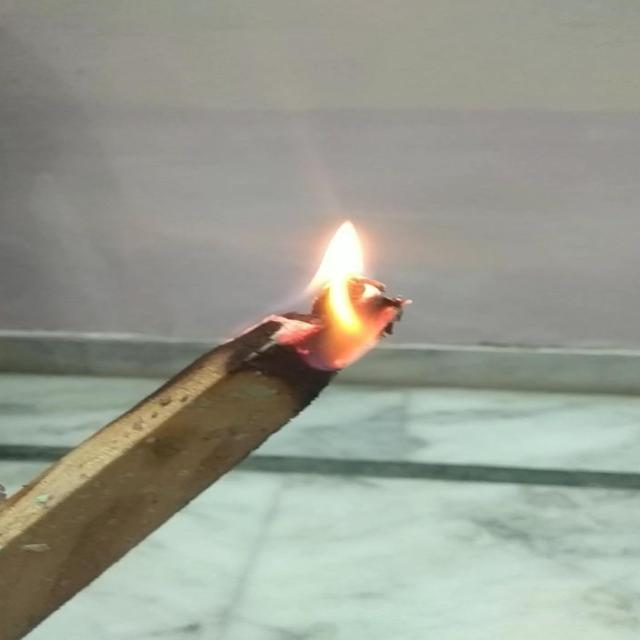smoke: (271, 219, 418, 368)
